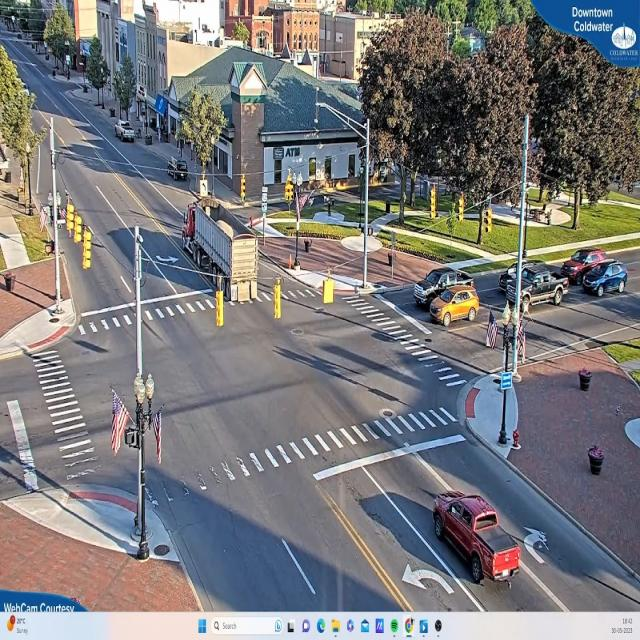car: (434, 496, 524, 591), (427, 282, 481, 330), (506, 269, 570, 308), (576, 259, 630, 297), (163, 156, 190, 180), (115, 123, 136, 143)
truck: (179, 200, 258, 300)
